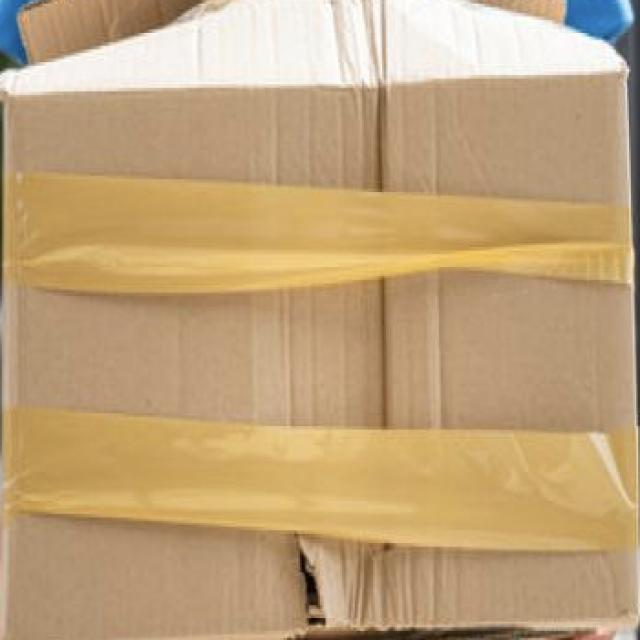hole: (286, 541, 336, 627)
